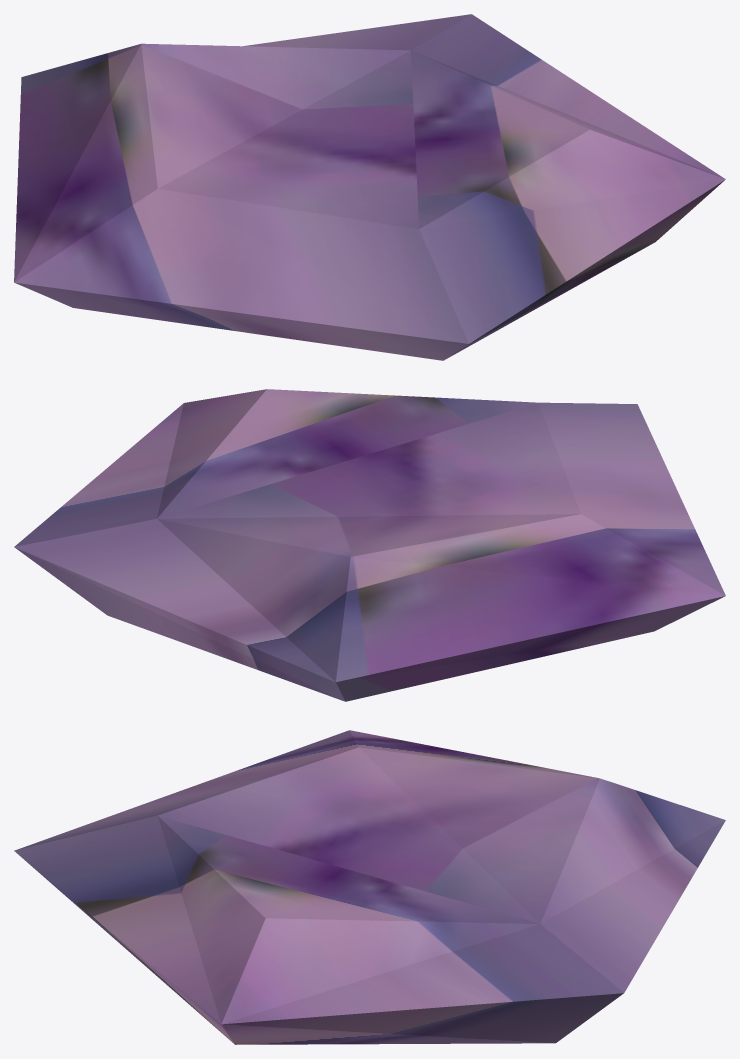
Rendered from PlateTree_1_Plate_2.gltf.
3 renders of one model, top to bottom at view 1: azimuth 30°, elevation 25°; view 2: azimuth 150°, elevation 25°; view 3: azimuth 270°, elevation 25°, orthographic. The views are drawn at different scales.
Parts seen in each view (by area): view 1: PlateTree_1_Plate_2; view 2: PlateTree_1_Plate_2; view 3: PlateTree_1_Plate_2.
Boxes of the visible parts, bbox=[...] form: PlateTree_1_Plate_2: bbox=[14, 14, 725, 360]; PlateTree_1_Plate_2: bbox=[14, 389, 725, 701]; PlateTree_1_Plate_2: bbox=[14, 730, 725, 1044].
Bounding box in the file's own units: 1.16 × 0.2542 × 1.19.
Materials: 1 (1 with a texture image).
